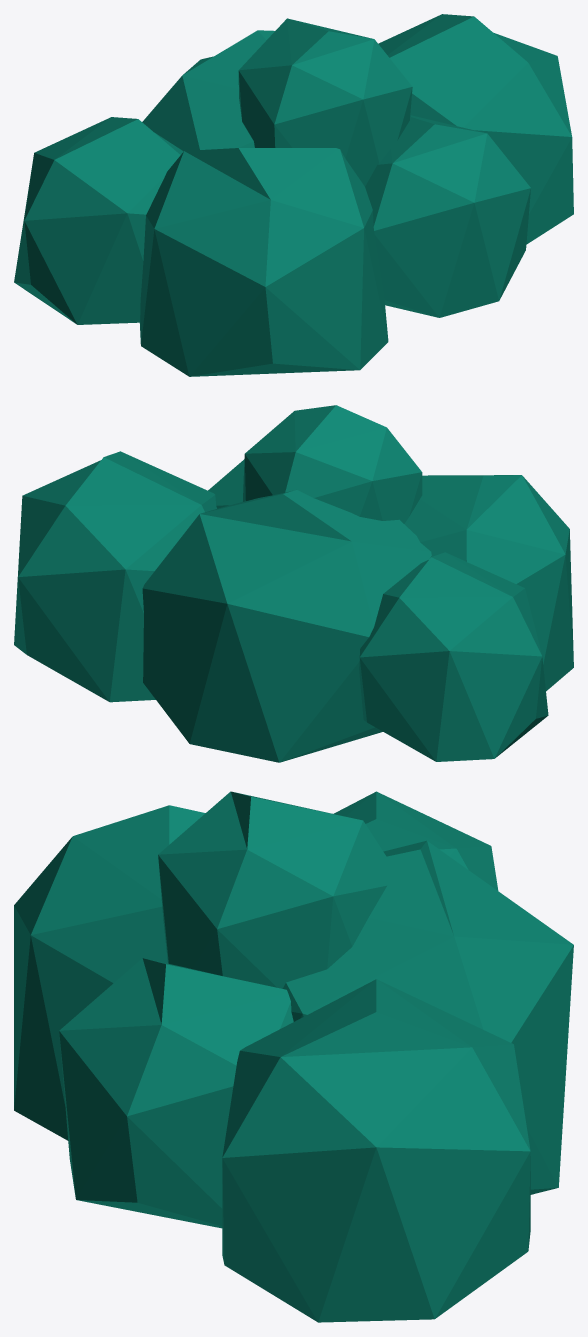
The model's file is Bush 2.fbx.
3 views of the same model, one above another, from view 1: azimuth 30°, elevation 25°; view 2: azimuth 150°, elevation 25°; view 3: azimuth 270°, elevation 25° (orthographic). The views are drawn at different scales.
Parts seen in each view (by area): view 1: Bush 2; view 2: Bush 2; view 3: Bush 2.
Boxes of the visible parts, left/top/right/bottom form: Bush 2: left=14, top=14, right=573, bottom=376; Bush 2: left=14, top=405, right=573, bottom=762; Bush 2: left=14, top=791, right=573, bottom=1322.
Size of the model in its own units: 53.2 by 27.63 by 35.94.
Materials: 2 (1 with a texture image).
